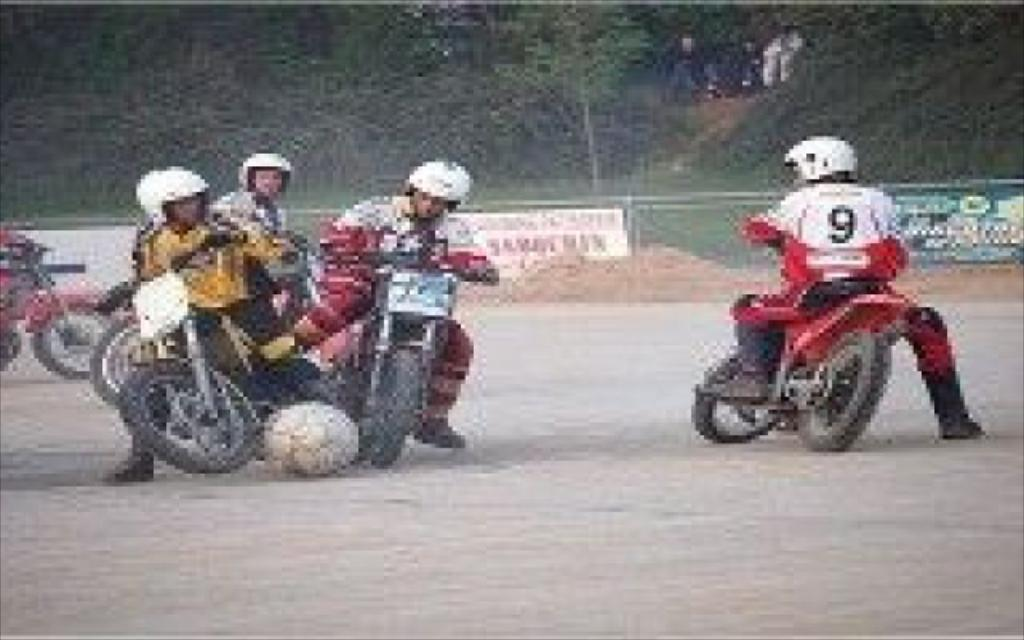helmet: (134, 165, 210, 225), (784, 134, 859, 193), (405, 159, 474, 218), (238, 151, 292, 198)
